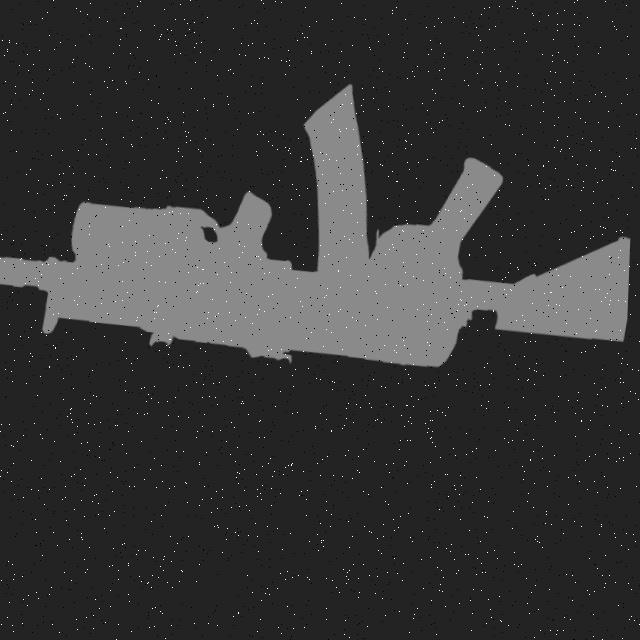firearm: (0, 36, 638, 421)
